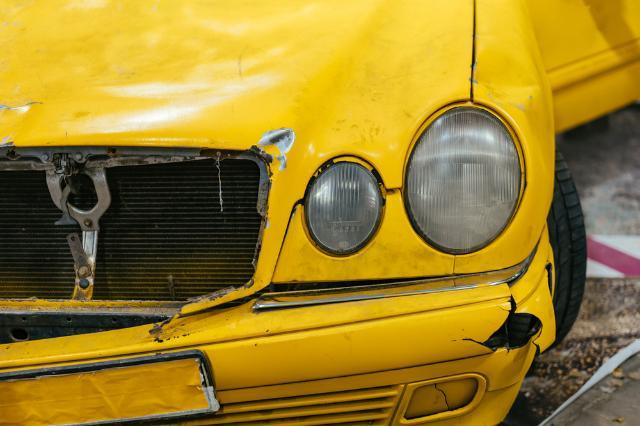crack: (460, 292, 544, 354), (434, 384, 450, 409), (544, 262, 553, 296)
dislocated part: (0, 229, 557, 426)
no part: (1, 151, 258, 308)
